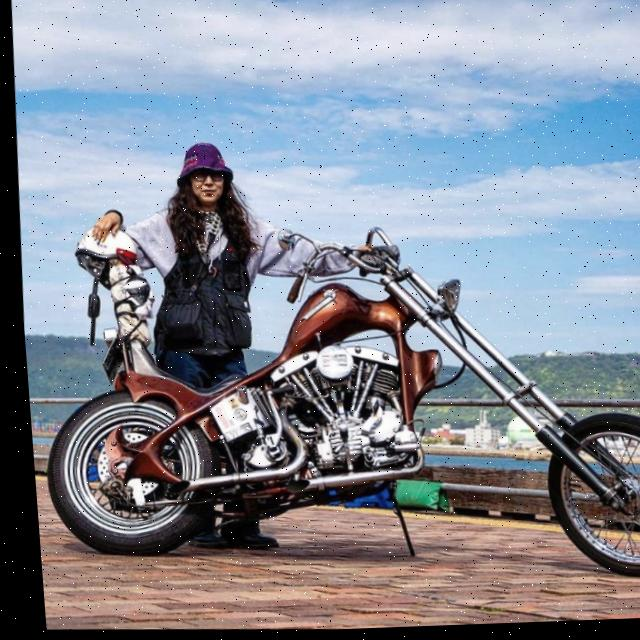illegal_helmet: (167, 138, 238, 211)
